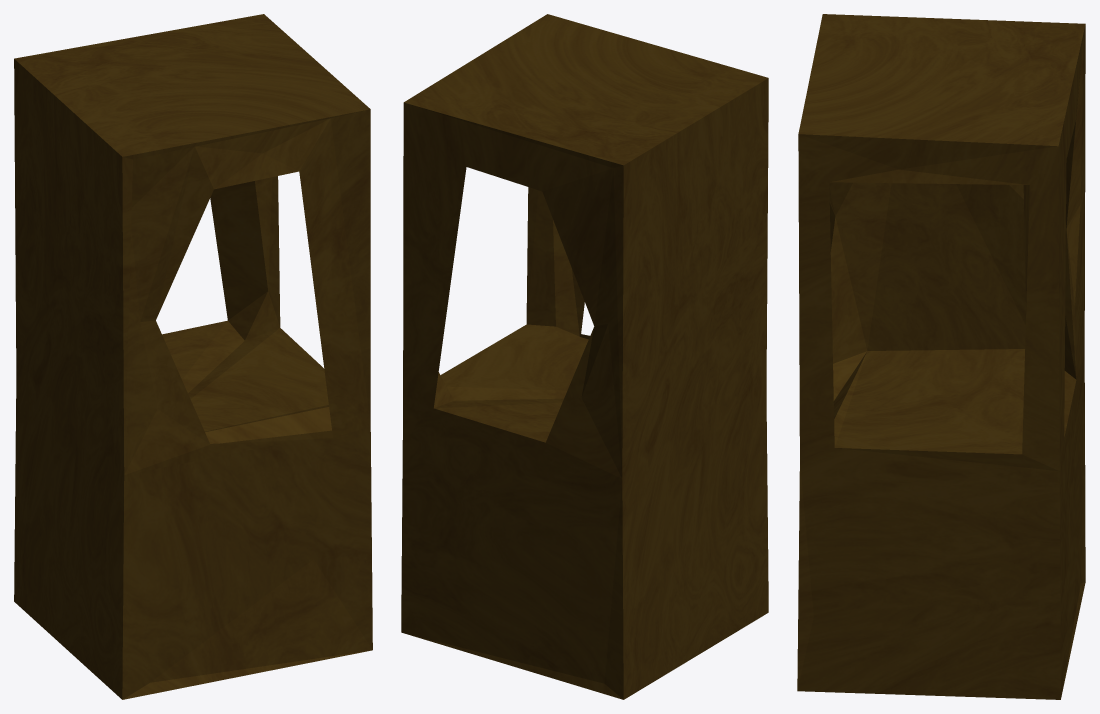
Rendered from booth.fbx.
3 views of the same model, side by side, from view 1: azimuth 30°, elevation 25°; view 2: azimuth 150°, elevation 25°; view 3: azimuth 270°, elevation 25° (orthographic). The views are drawn at different scales.
Visible parts, largest first — view 1: Cube.015; view 2: Cube.015; view 3: Cube.015.
Boxes of the visible parts, x1,y1,x2,y2 form: Cube.015: [14, 14, 372, 699]; Cube.015: [401, 14, 768, 699]; Cube.015: [797, 14, 1085, 699].
Size of the model in its own units: 363 by 731 by 342.
Materials: 1 (1 with a texture image).
